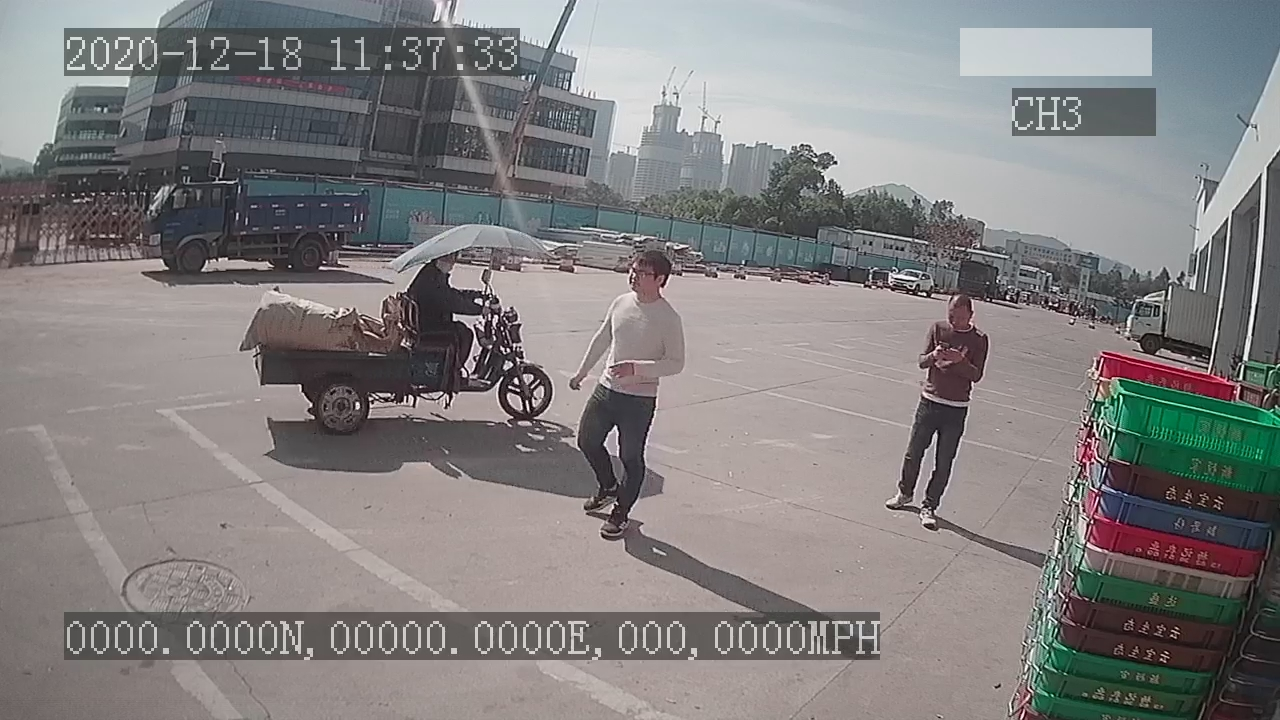person: (567, 246, 690, 540), (883, 287, 994, 535)
